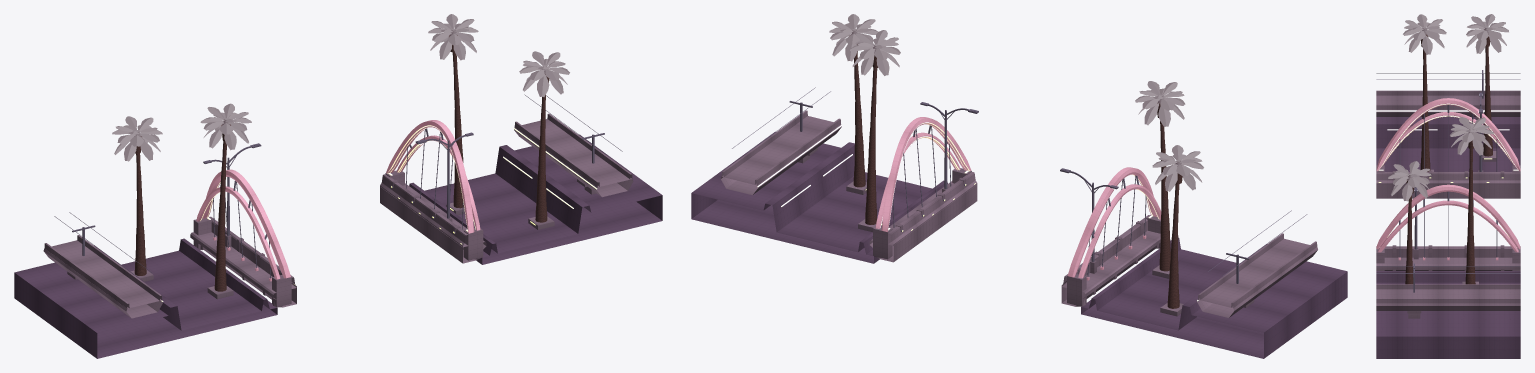
File: night-drive-city.glb
The picture shows the model from 3 angles, left to right: view 1: azimuth 30°, elevation 25°; view 2: azimuth 150°, elevation 25°; view 3: azimuth 270°, elevation 25°; orthographic projection. The views are drawn at different scales.
Parts seen in each view (by area): view 1: UrbanPromenadeDeck, ViaductConcrete, PalmFronds, ViaductArchRibs, PalmTrunks, ExpresswaySteel; view 2: UrbanPromenadeDeck, ViaductConcrete, PalmFronds, ViaductArchRibs, PalmTrunks, ExpresswaySteel, ViaductArchGlow; view 3: UrbanPromenadeDeck, ViaductConcrete, PalmFronds, ViaductArchRibs, PalmTrunks, ExpresswaySteel, ViaductArchGlow, MetroDeckAccents.
Part boxes in pixels (x1=…): UrbanPromenadeDeck: x1=14, y1=134, x2=662, y2=358; ViaductConcrete: x1=43, y1=113, x2=633, y2=318; PalmFronds: x1=112, y1=14, x2=569, y2=161; ViaductArchRibs: x1=196, y1=120, x2=480, y2=281; PalmTrunks: x1=134, y1=35, x2=549, y2=291; ExpresswaySteel: x1=54, y1=94, x2=622, y2=278; UrbanPromenadeDeck: x1=691, y1=132, x2=1347, y2=358; ViaductConcrete: x1=721, y1=110, x2=1317, y2=317; PalmFronds: x1=829, y1=14, x2=1203, y2=191; ViaductArchRibs: x1=875, y1=117, x2=1161, y2=280; PalmTrunks: x1=850, y1=35, x2=1182, y2=308; ExpresswaySteel: x1=732, y1=87, x2=1307, y2=283; ViaductArchGlow: x1=880, y1=122, x2=1159, y2=230; UrbanPromenadeDeck: x1=1376, y1=117, x2=1520, y2=358; ViaductConcrete: x1=1376, y1=90, x2=1520, y2=318; PalmFronds: x1=1388, y1=14, x2=1508, y2=201; ViaductArchRibs: x1=1376, y1=98, x2=1520, y2=260; PalmTrunks: x1=1405, y1=34, x2=1492, y2=284; ExpresswaySteel: x1=1376, y1=70, x2=1520, y2=292; ViaductArchGlow: x1=1378, y1=103, x2=1518, y2=237; MetroDeckAccents: x1=1376, y1=110, x2=1520, y2=130.
Size of the model in its own units: 63 by 20.81 by 16.
10 materials, 4 textured.
